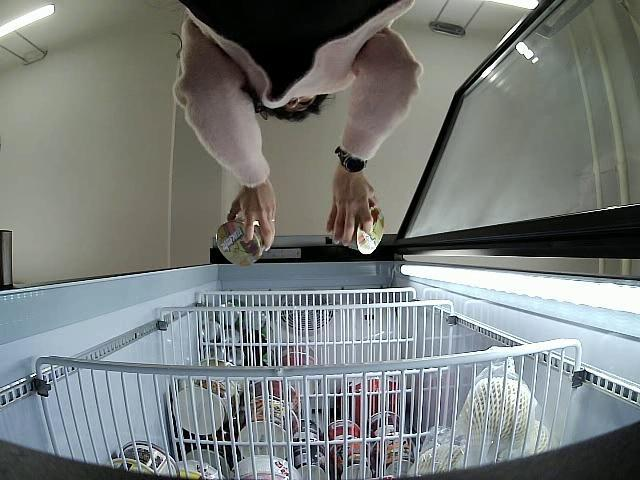04_chapagetti_S: (328, 202, 385, 256), (217, 218, 266, 268)
